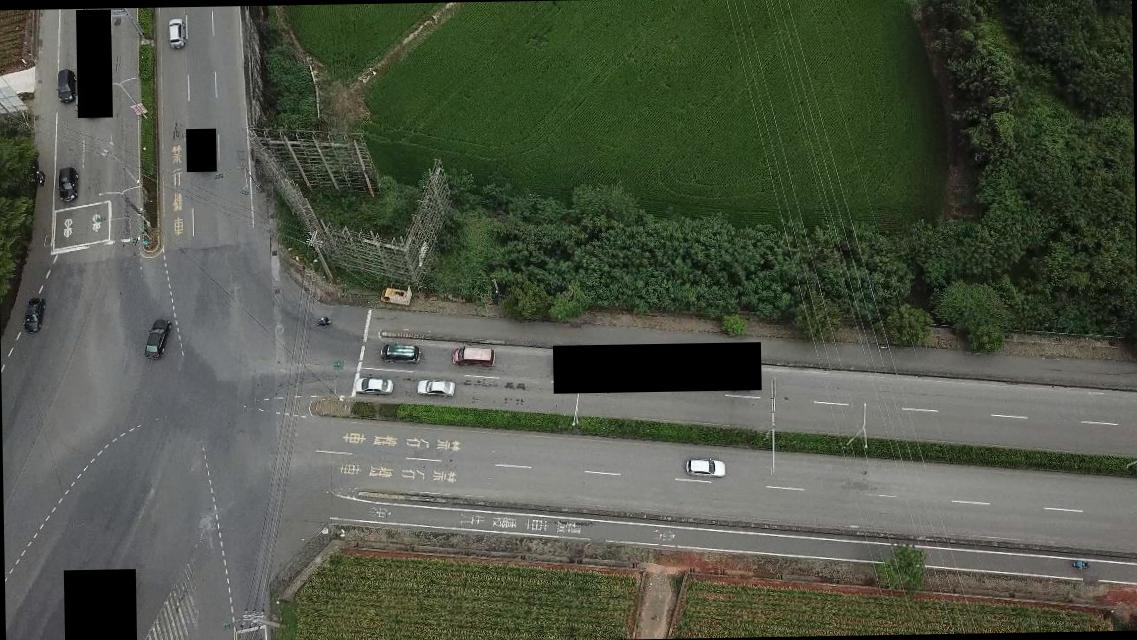vehicle: (140, 316, 173, 359), (452, 343, 494, 368), (20, 294, 46, 334), (684, 455, 725, 478), (379, 342, 420, 364), (414, 379, 456, 399), (352, 375, 393, 395), (56, 165, 77, 202), (166, 16, 186, 50), (380, 284, 410, 306), (58, 68, 76, 102)
